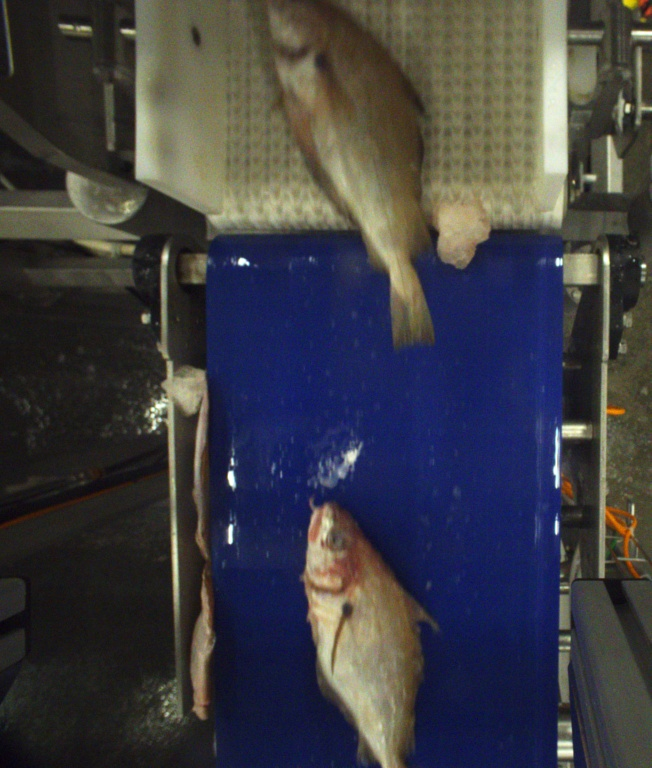BIB: (243, 0, 442, 349)
